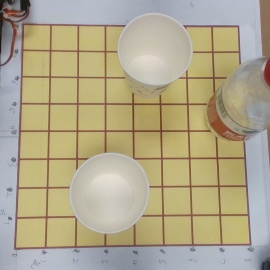bottle: (195, 56, 270, 155)
cup: (109, 12, 192, 102), (63, 152, 149, 236)
